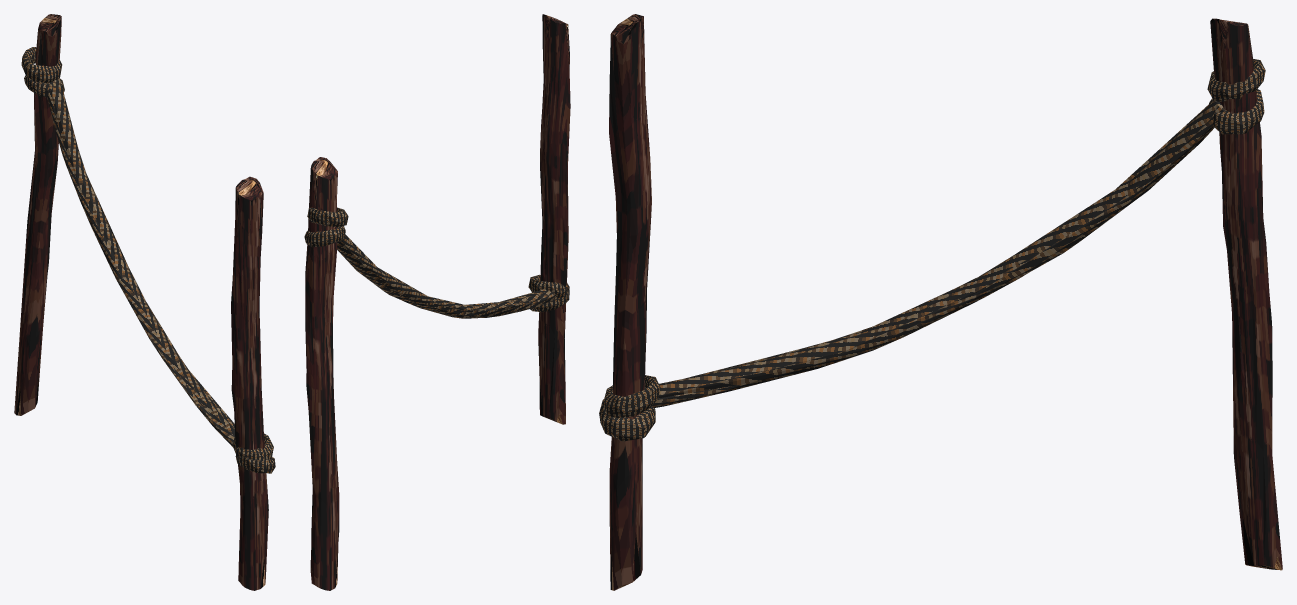
File: cave-fence3.glb
3 renders of one model, left to right at view 1: azimuth 30°, elevation 25°; view 2: azimuth 150°, elevation 25°; view 3: azimuth 270°, elevation 25°, orthographic. The views are drawn at different scales.
Visible parts, largest first — view 1: Cylinder.011; view 2: Cylinder.011; view 3: Cylinder.011.
Part boxes in pixels (bbox=[...]): Cylinder.011: bbox=[14, 14, 275, 590]; Cylinder.011: bbox=[304, 14, 570, 590]; Cylinder.011: bbox=[599, 14, 1282, 590].
Size of the model in its own units: 0.1691 by 1.57 by 1.67.
Materials: 6 (6 with a texture image).
